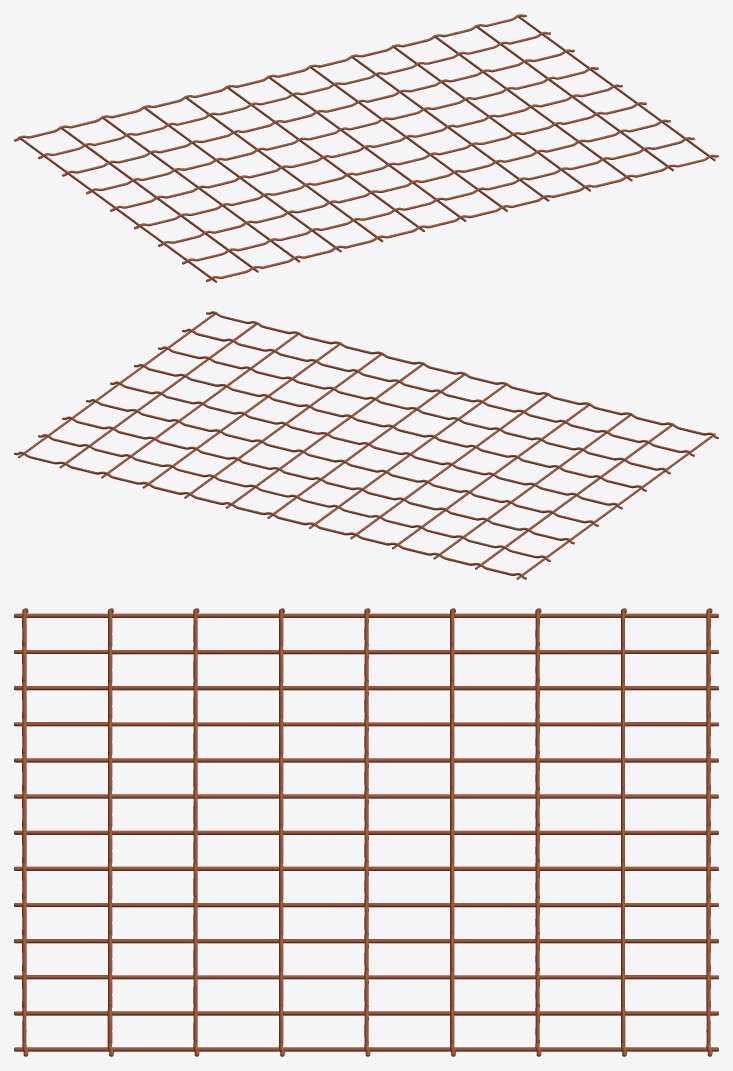
Rendered from SM_grilleBlock.fbx.
3 renders of one model, top to bottom at view 1: azimuth 30°, elevation 25°; view 2: azimuth 150°, elevation 25°; view 3: azimuth 270°, elevation 25°, orthographic. The views are drawn at different scales.
Parts seen in each view (by area): view 1: SM_tileSol_midle.044; view 2: SM_tileSol_midle.044; view 3: SM_tileSol_midle.044.
Part boxes in pixels (left/top/right/bottom): SM_tileSol_midle.044: left=14, top=14, right=718, bottom=282; SM_tileSol_midle.044: left=14, top=311, right=718, bottom=579; SM_tileSol_midle.044: left=14, top=608, right=718, bottom=1056.
Size of the model in its own units: 2469 by 20.84 by 1649.
